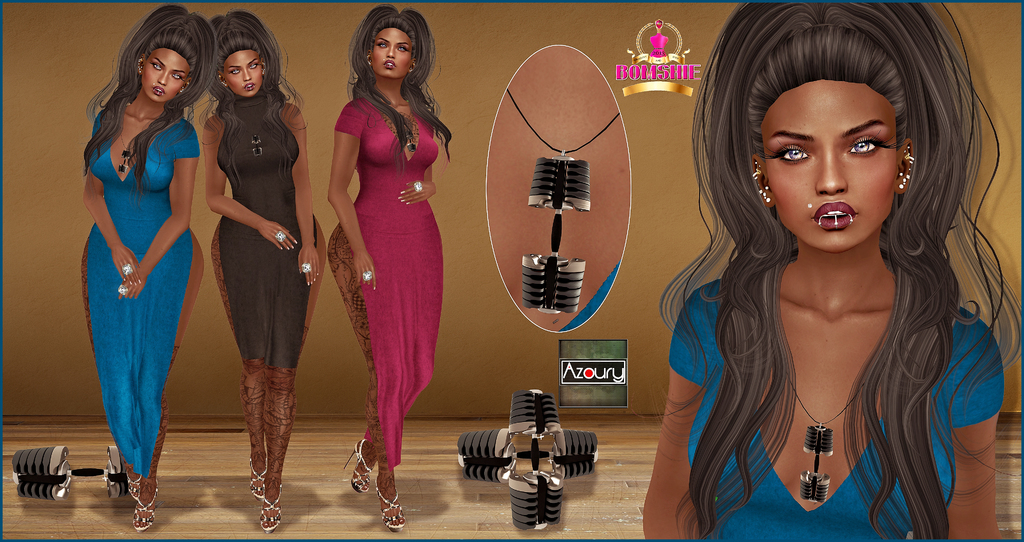Footwear: (125, 466, 157, 530), (343, 440, 372, 493), (378, 478, 404, 529), (258, 484, 283, 533), (248, 456, 267, 499)
